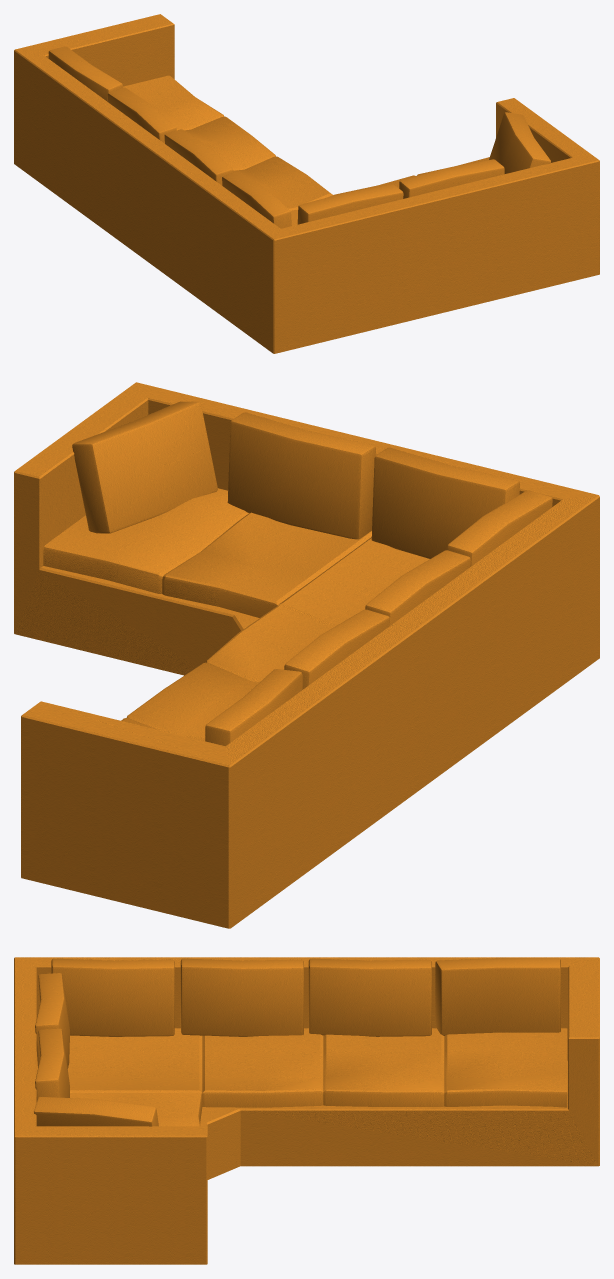
The model's file is sofa.fbx.
The picture shows the model from 3 angles, top to bottom: view 1: azimuth 30°, elevation 25°; view 2: azimuth 150°, elevation 25°; view 3: azimuth 270°, elevation 25°; orthographic projection. The views are drawn at different scales.
Visible parts, largest first — view 1: sofa; view 2: sofa; view 3: sofa.
Part boxes in pixels (<box>): sofa: <box>14,14,599,353</box>; sofa: <box>14,382,599,928</box>; sofa: <box>14,957,599,1264</box>.
Size of the model in its own units: 3.44 by 1.25 by 4.75.
